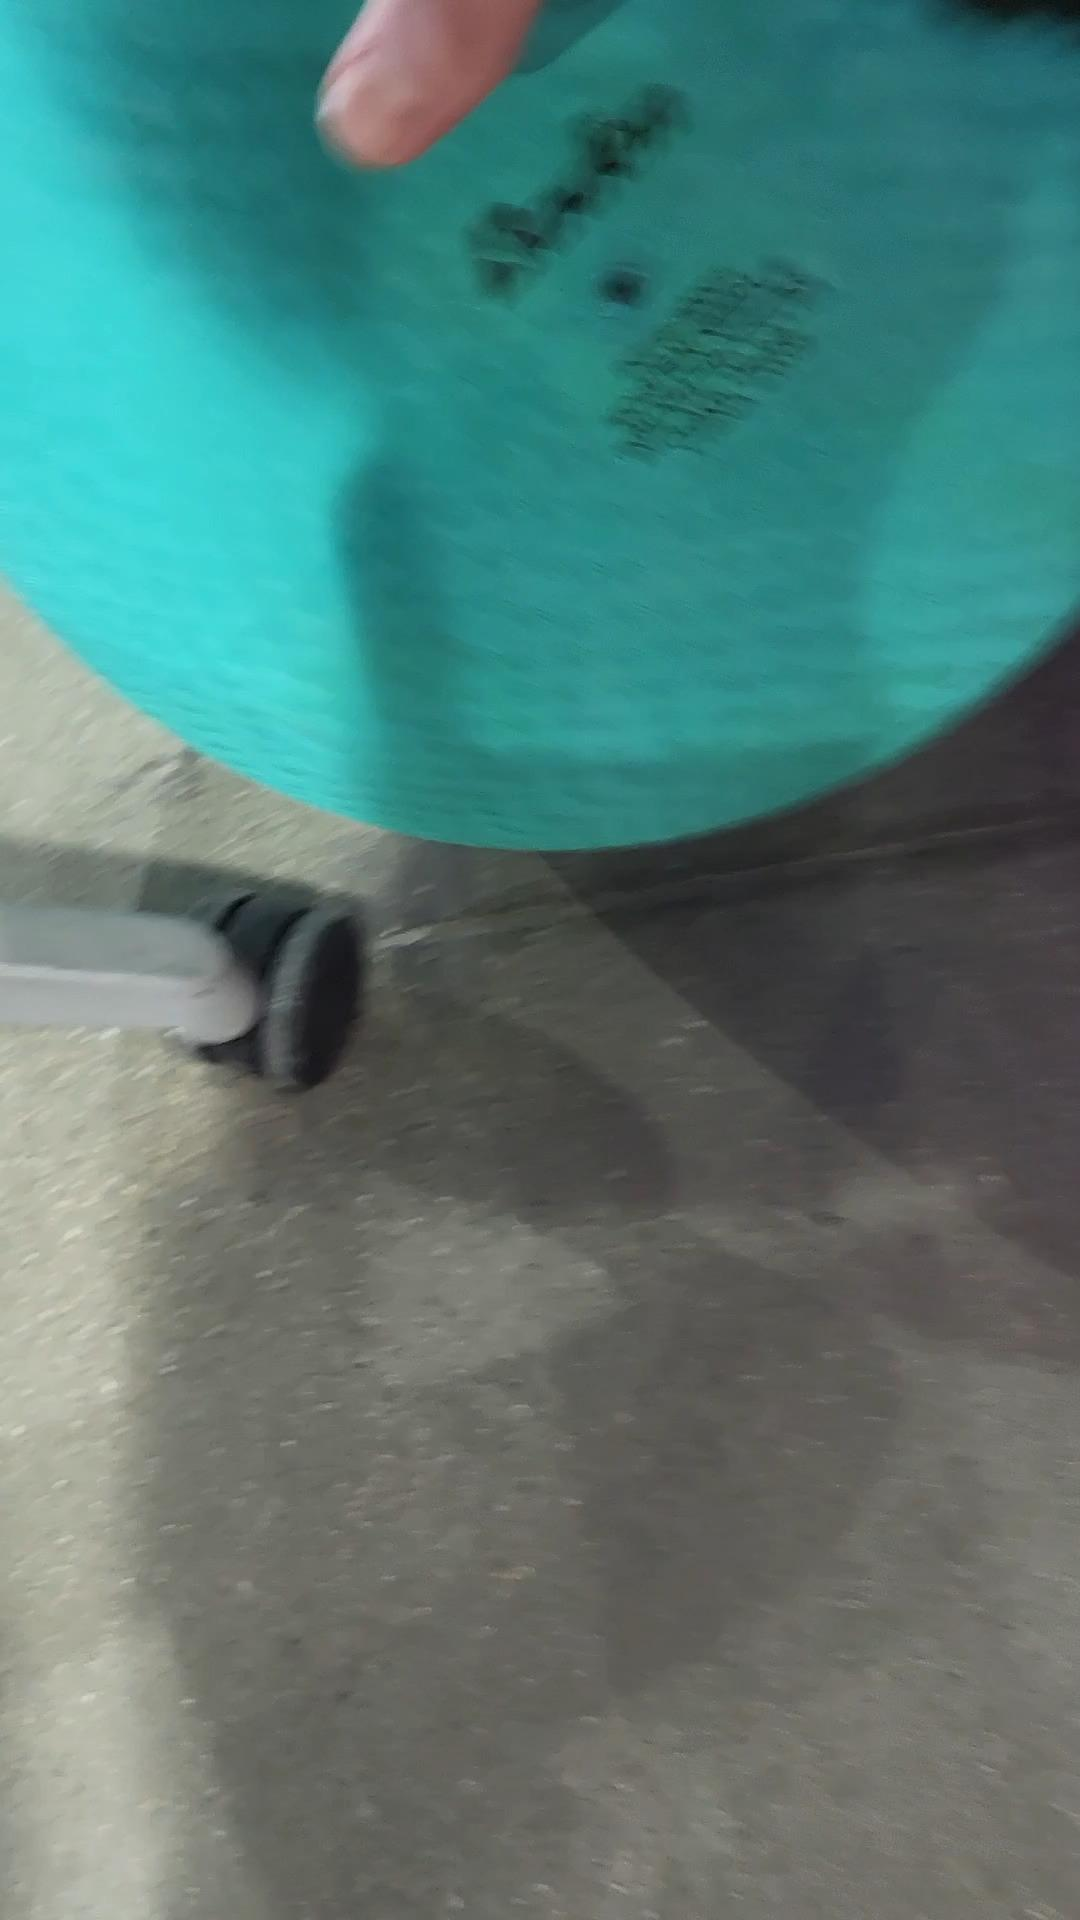algae: (0, 0, 1080, 856)
